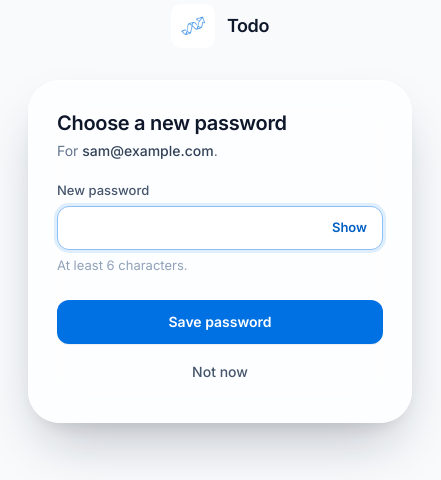
Test: NewPasswordScreen › checks the length before sending anything
Click the button "Save password" at [220, 322], box [57, 300, 383, 344]
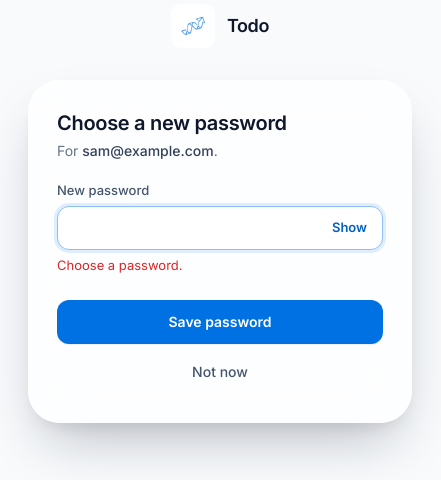
Now the text "Choose a password." is shown, box [57, 257, 182, 273]
Type "abc" into the password field labelled "New password" at [220, 228], box [57, 206, 383, 250]
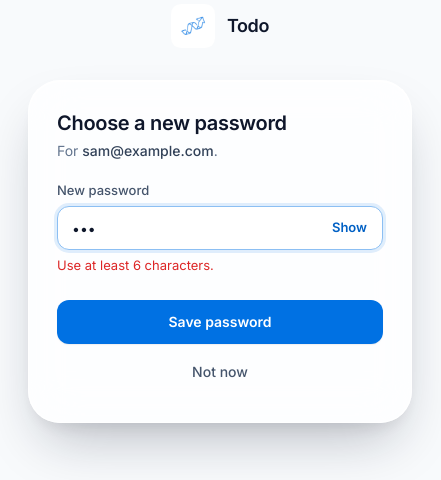
Now the text "Use at least 6 characters." is shown, box [57, 257, 214, 273]
